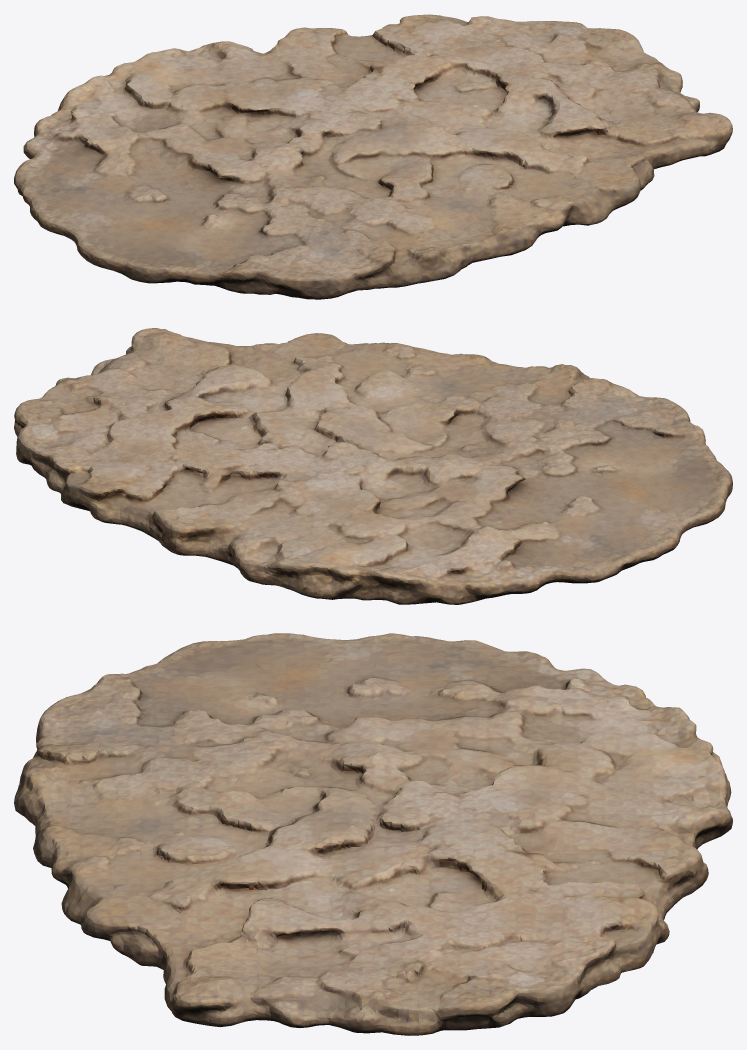
The picture shows the model from 3 angles, top to bottom: view 1: azimuth 30°, elevation 25°; view 2: azimuth 150°, elevation 25°; view 3: azimuth 270°, elevation 25°; orthographic projection. The views are drawn at different scales.
Visible parts, largest first — view 1: world; view 2: world; view 3: world.
Boxes of the visible parts, bbox=[...] form: world: bbox=[14, 14, 732, 299]; world: bbox=[14, 328, 732, 604]; world: bbox=[14, 633, 732, 1035].
Size of the model in its own units: 0.3359 by 0.0178 by 0.2627.
Materials: 1 (1 with a texture image).
